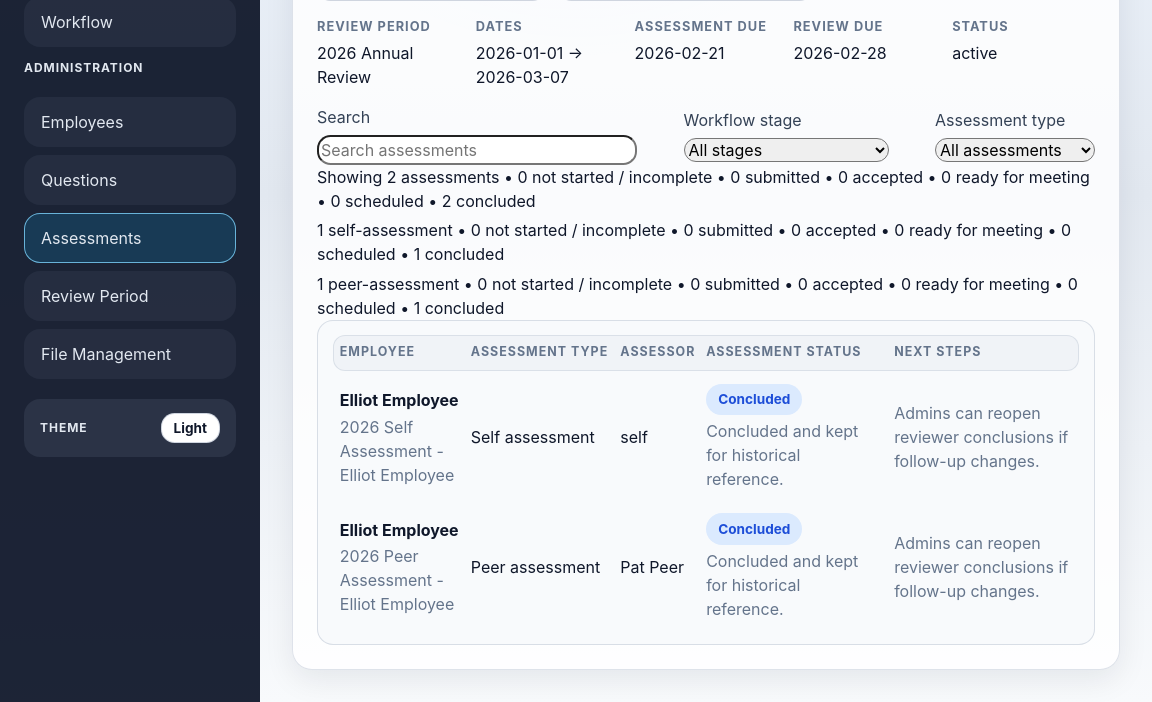
Test: workflow entry › shows reopen conclusion in the admin assessment dialog for concluded assessments
(page scrolled)
Click the 1st button with class "assessment-row-card-clickable" at point(706, 437), box [333,374,1079,501]
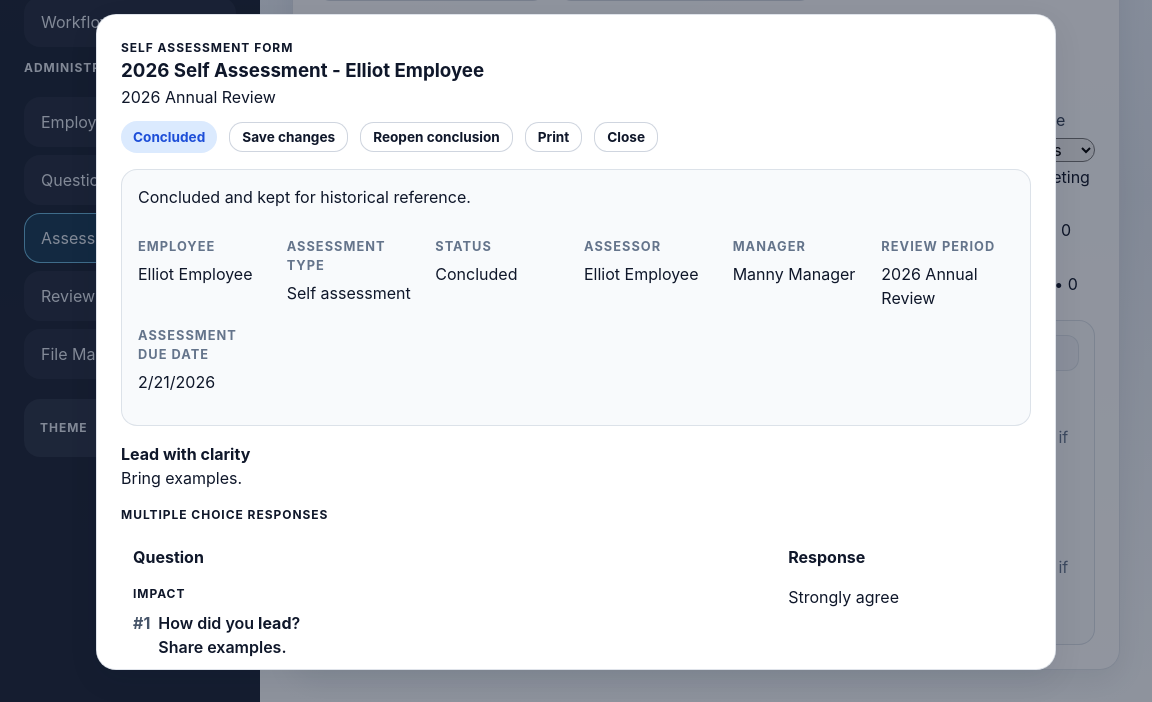
Expected: the text "Save changes" is shown, [229,122,348,152]
Expected: the text "Reopen conclusion" is shown, [360,122,513,152]
